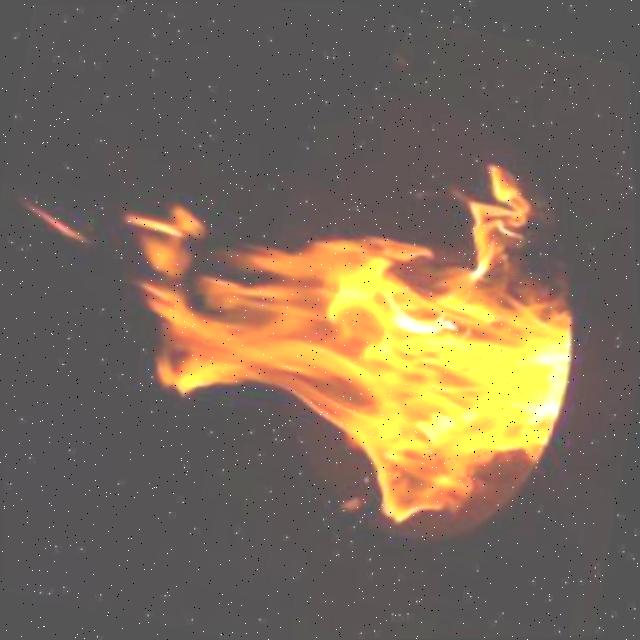fire: (107, 92, 613, 559)
